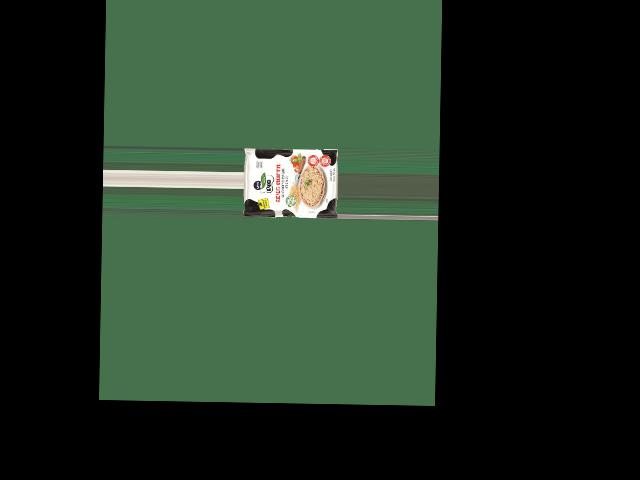cheese: (250, 136, 334, 220)
